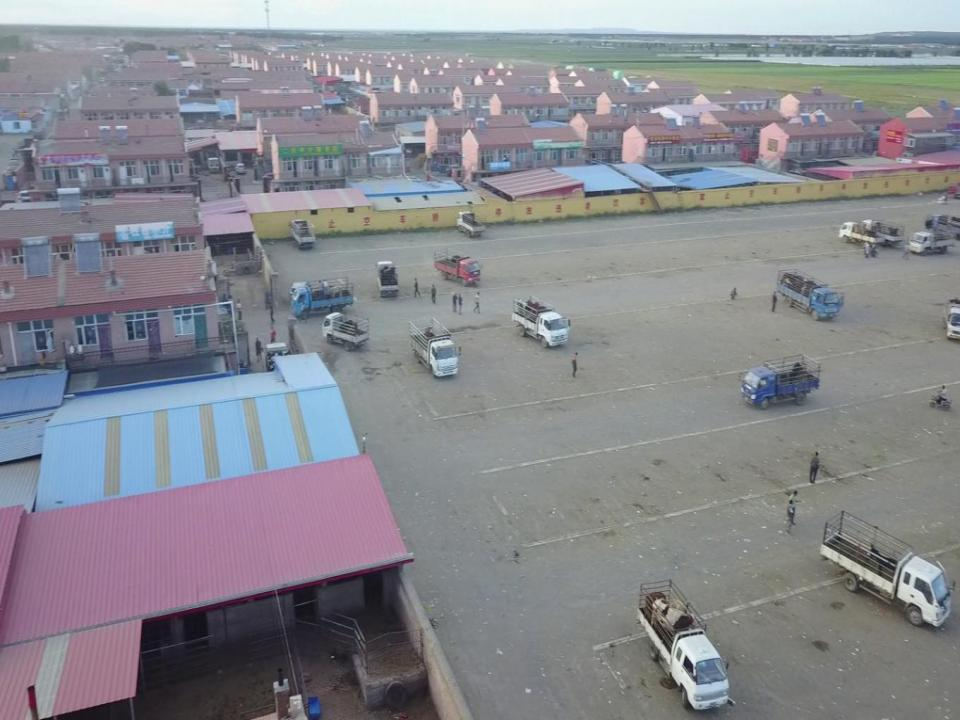truck: (818, 503, 958, 636), (634, 577, 731, 712), (736, 352, 824, 412), (774, 264, 846, 324), (510, 292, 572, 349), (408, 316, 462, 380), (288, 274, 356, 322), (433, 244, 484, 286), (321, 309, 371, 351), (860, 218, 906, 250), (835, 220, 886, 248), (908, 227, 956, 255), (922, 211, 960, 242), (374, 258, 400, 298), (287, 218, 317, 252), (455, 208, 486, 239), (942, 294, 960, 340)
